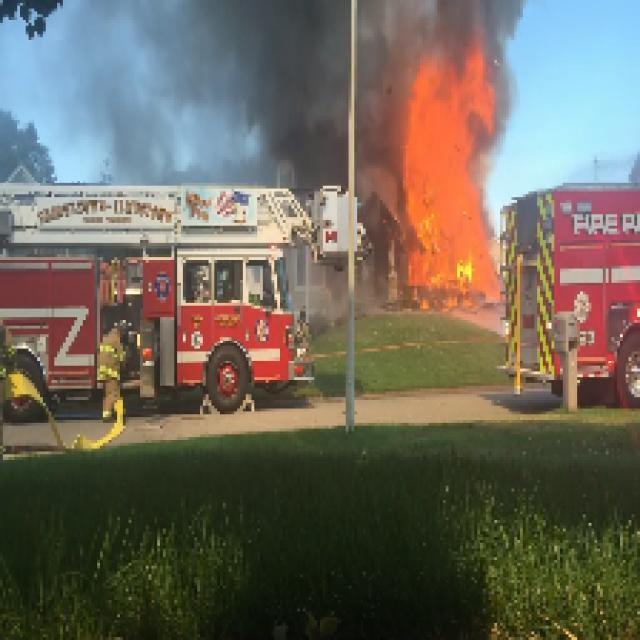Fire: (400, 26, 500, 312)
Smoke: (51, 2, 532, 192)
